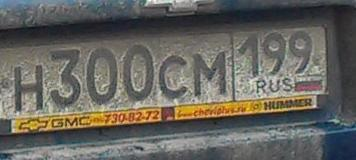license-plateSW: (0, 25, 327, 121)
